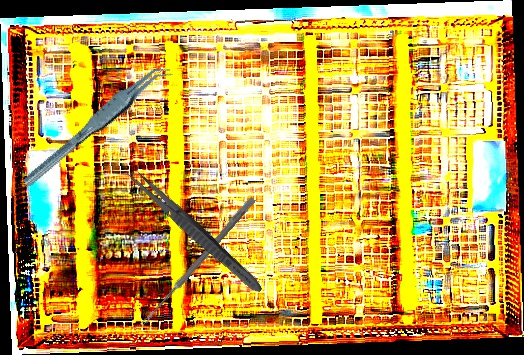Dressing Forceps: (122, 164, 268, 298)
Surgical Spoon: (139, 195, 256, 329)
Tissue Forceps: (10, 60, 183, 189)
